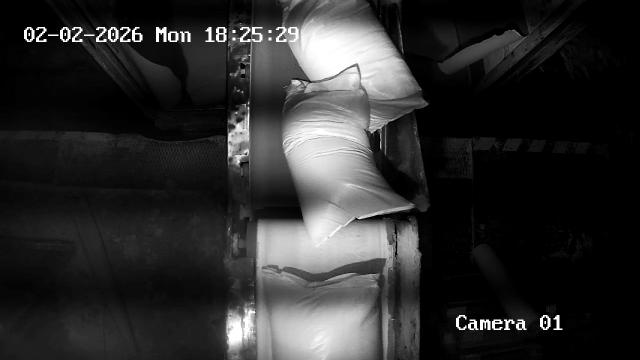bag: (283, 66, 416, 248), (281, 0, 428, 134), (262, 268, 382, 360)
